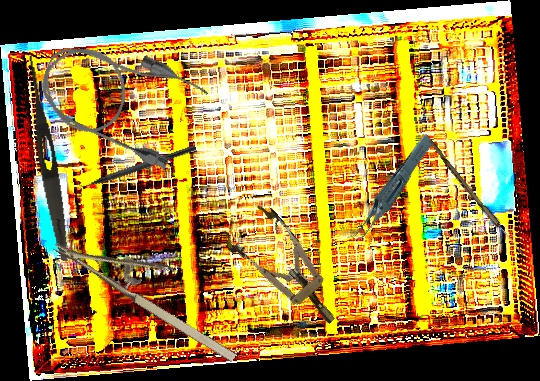Cannula: (28, 22, 212, 174)
Chopper: (70, 136, 197, 195)
Dressing Forceps: (19, 52, 75, 263)
Needle Holder: (52, 206, 257, 368)
Speculum: (218, 198, 354, 342)
Surgical Spoon: (425, 139, 528, 258)
Tissue Forceps: (328, 132, 451, 246)
